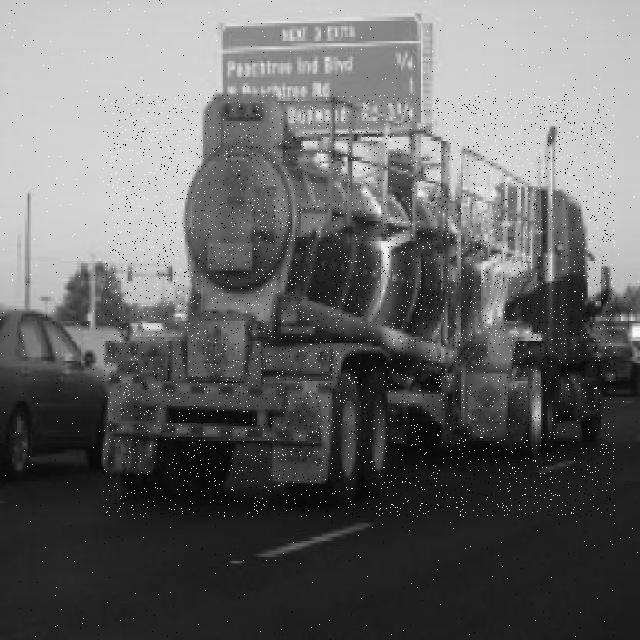Box Truck: (103, 94, 615, 517)
